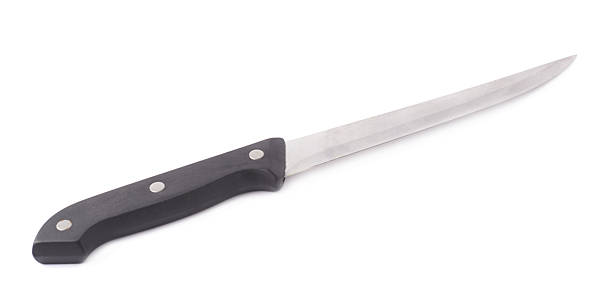knife: (29, 51, 579, 267)
